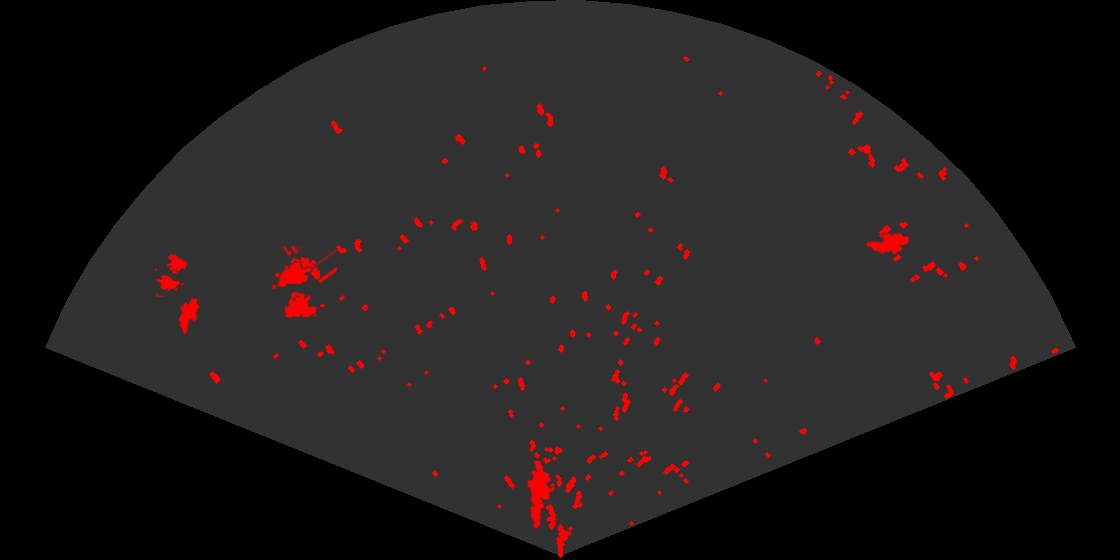AUV: (864, 231, 911, 255), (289, 255, 324, 283), (177, 296, 201, 336)
cage: (270, 246, 337, 320), (155, 252, 189, 297)
frogman: (525, 461, 557, 530)
